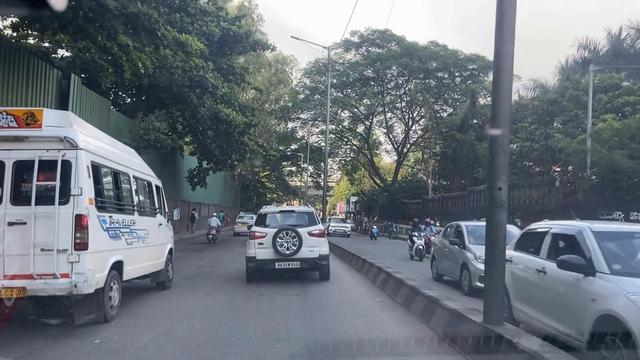HMV: (0, 109, 176, 324)
LMV: (245, 205, 331, 281)
